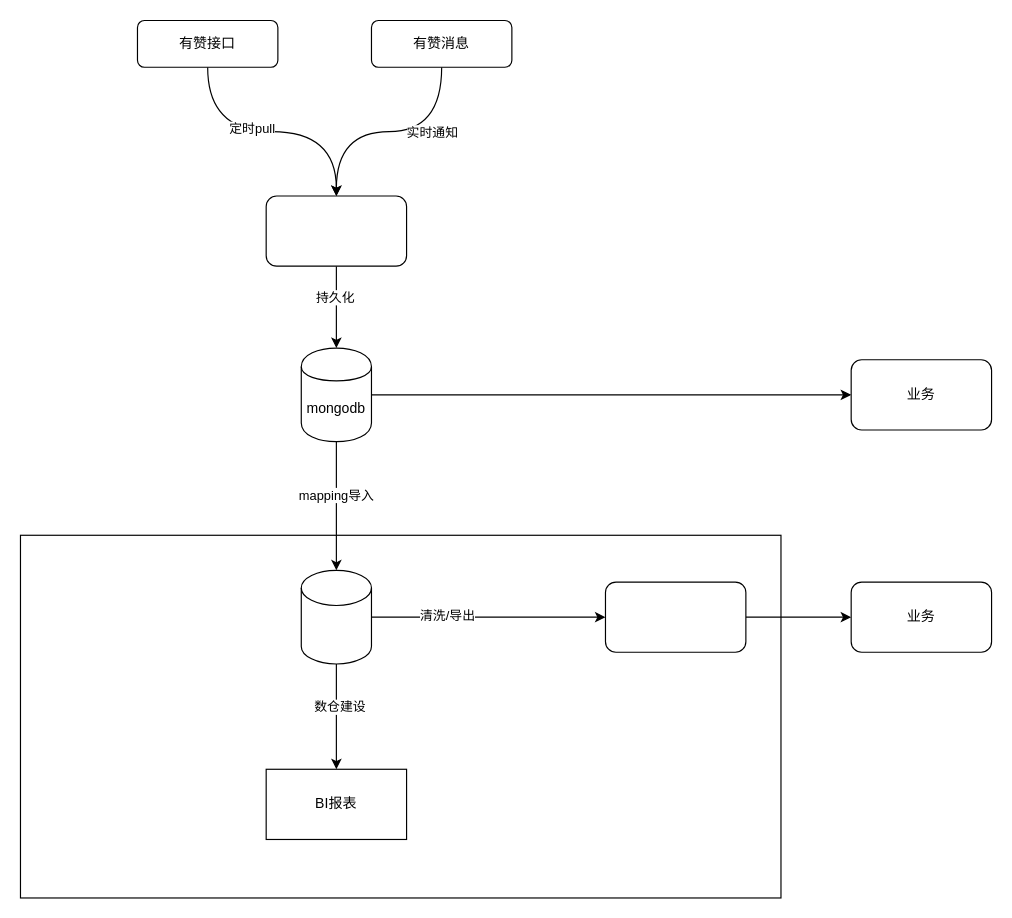
Image size: 1012x918. Some labels were removed from this diagram. Each missing label, with the box of its shape:
Hive: (300, 569, 371, 664)
middleware: (265, 195, 407, 266)
mysql: (604, 581, 746, 652)
